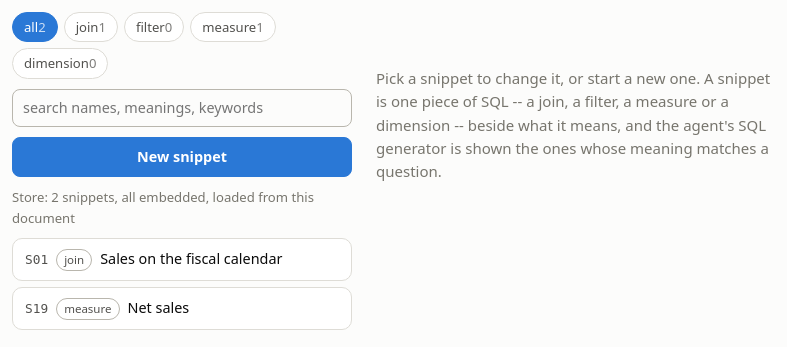
the list › shows the document's snippets, the store beside them, and filters by kind and words
Expected: the text "Sales on the fiscal calendar" is shown, [100, 249, 282, 268]
Expected: the text named "Snippet store" shows "Store: 2 snippets, all embedded", [12, 188, 314, 227]
Click the button "measure1": (233, 27) [190, 12, 276, 42]
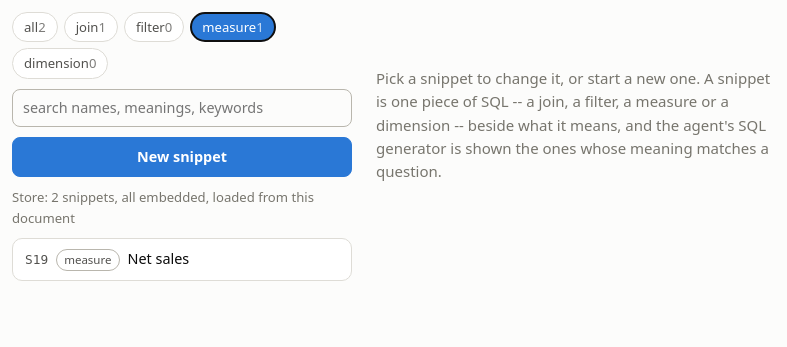
Expected: the text "Net sales" is shown, [128, 249, 189, 268]
Result: the button "Sales on the fiscal calendar" is gone
Click the button "all2": (35, 27) [12, 12, 58, 42]
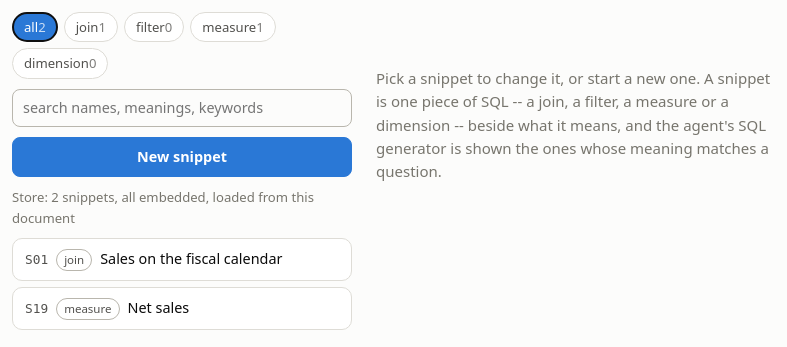
In the search field named "Search snippets": (182, 108) [12, 89, 352, 127], type "fiscal calendar"
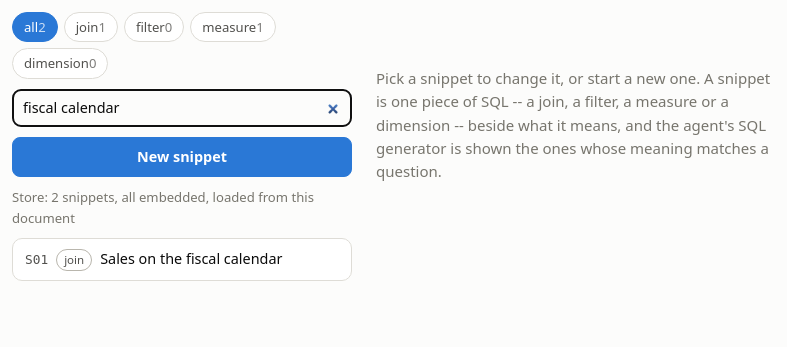
Result: the button "Net sales" is gone
In the search field named "Search snippets": (182, 108) [12, 89, 352, 127], type " nothing"
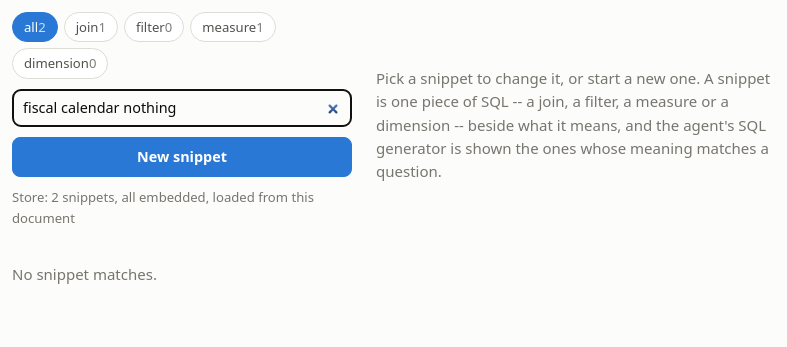
Result: the text "No snippet matches." is shown at [12, 264, 157, 284]
